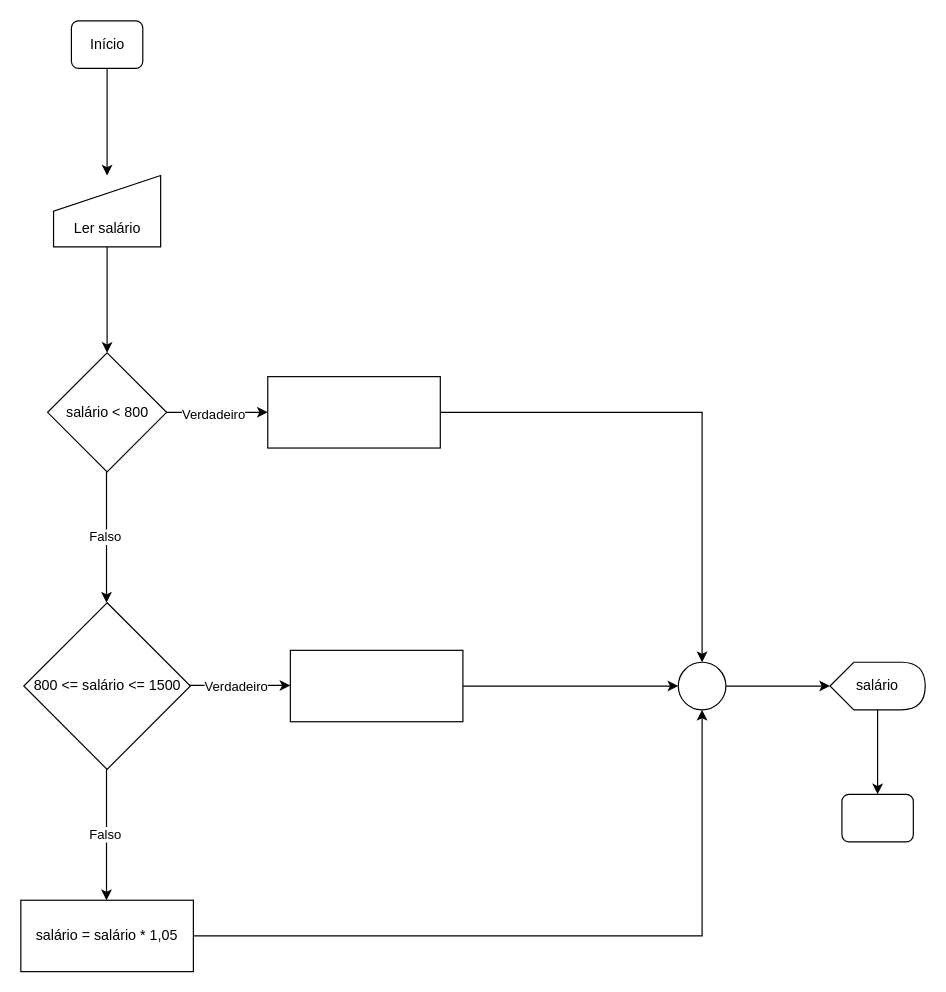
Some shapes in this 946 by 992 pixel diagram are drawn without their labels. Here are the shapes that lost their labels. From the top down, the box of each, then its label:
(267, 375, 440, 448): salário = salário * 1,15
(289, 649, 463, 722): salário = salário * 1,1
(841, 793, 913, 842): Fim
